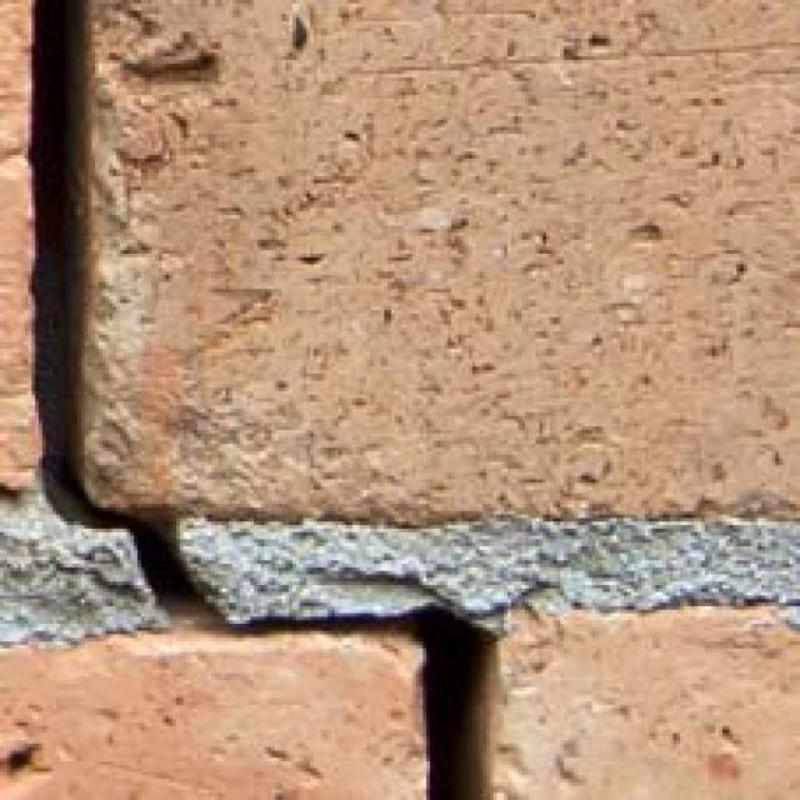pothole: (30, 0, 497, 799)
